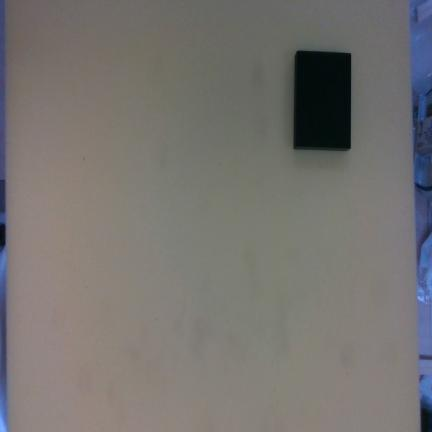tile: (296, 51, 352, 149)
